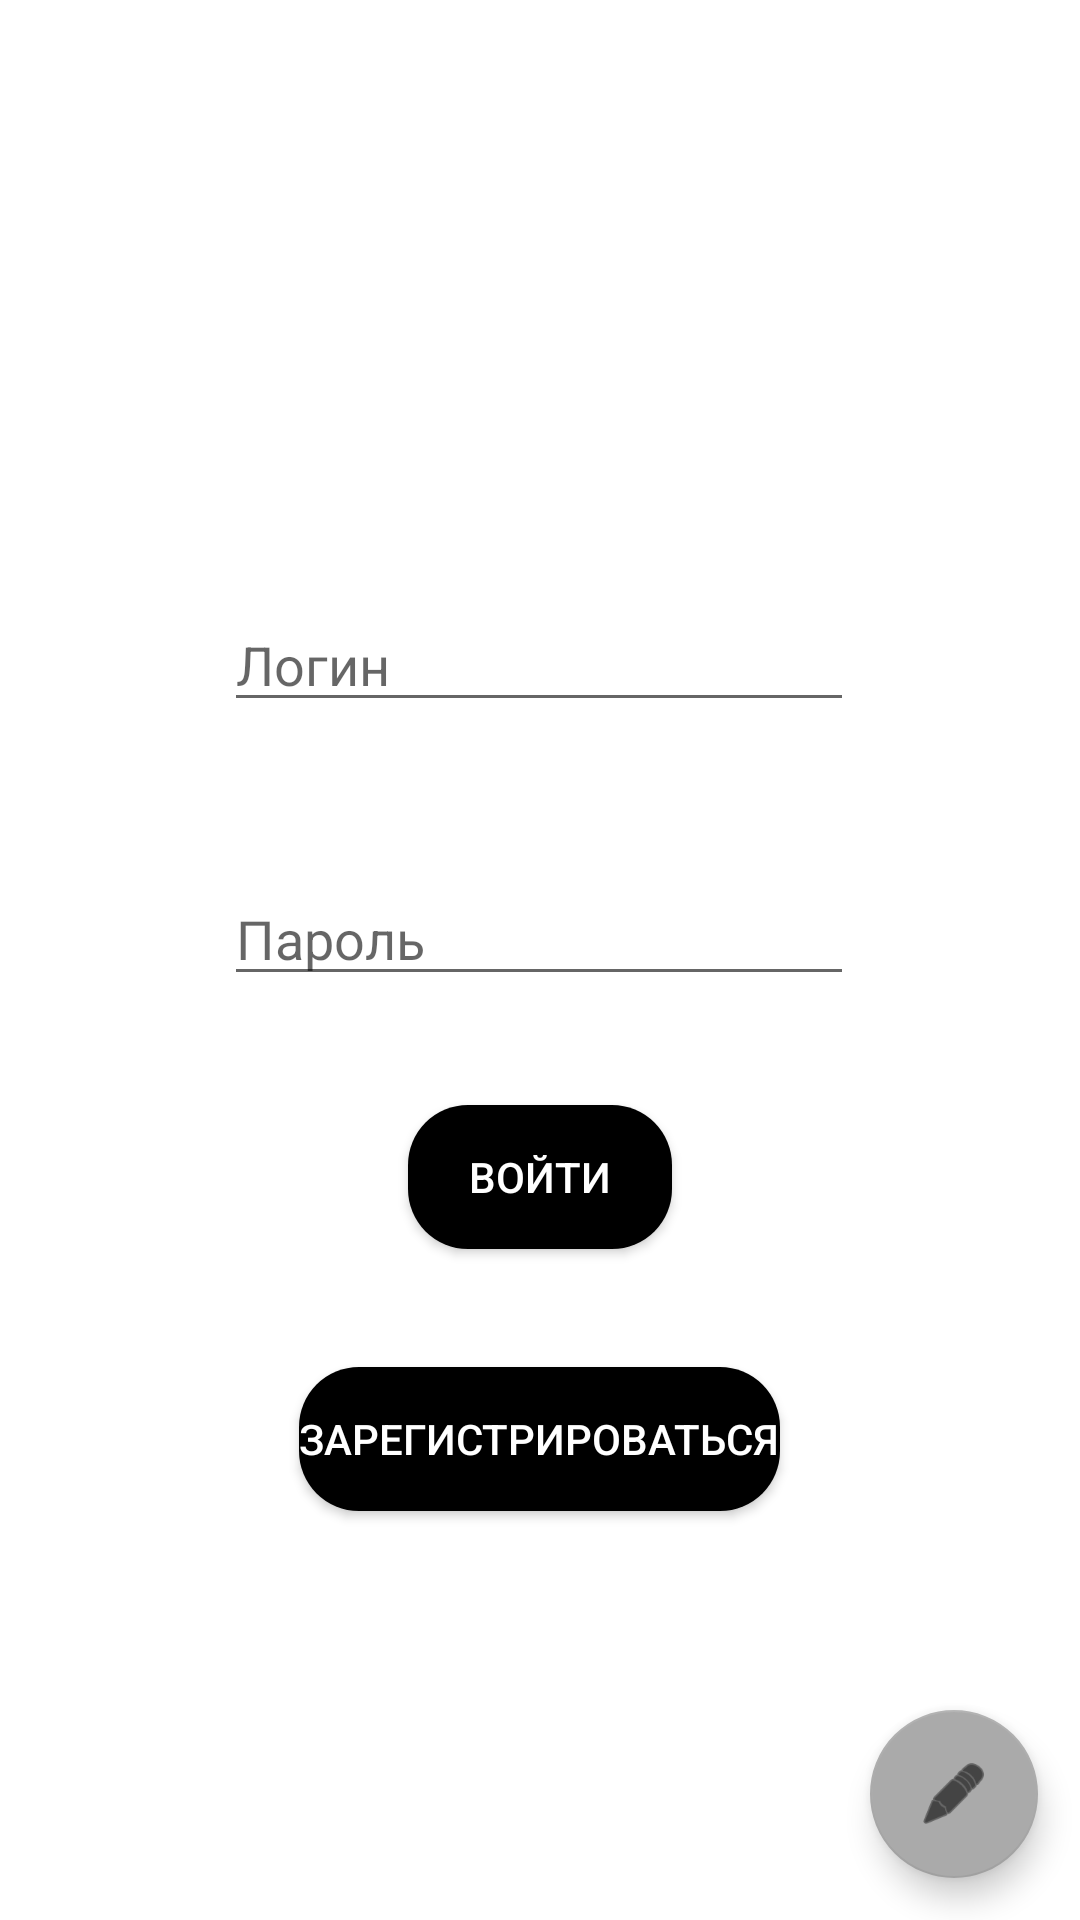

Where to tap for icons on this 1080*1920 app screen, as (x,y):
edit: (954,1794)
